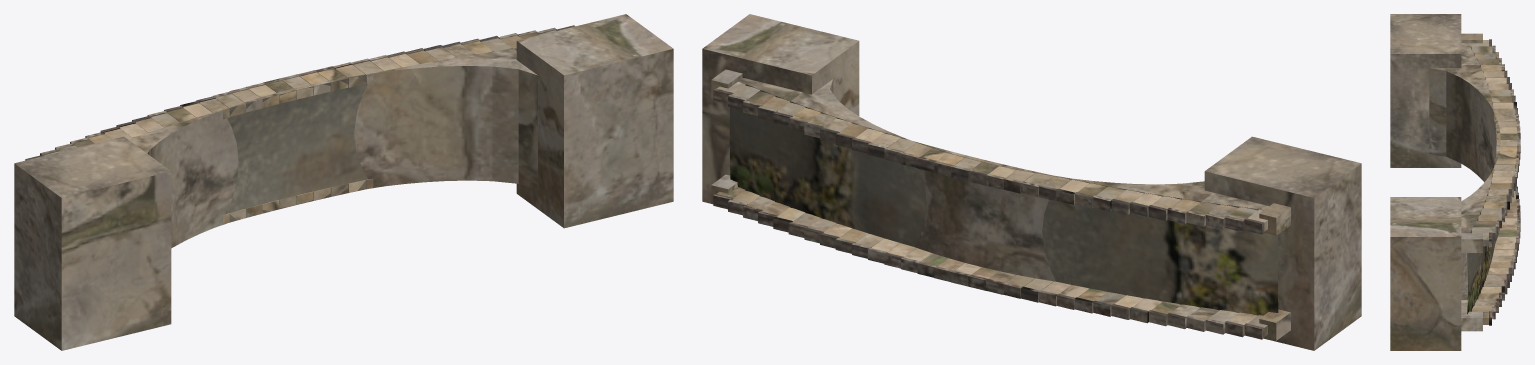
The model's file is Stone_Arch_Bridge.fbx.
The picture shows the model from 3 angles, left to right: view 1: azimuth 30°, elevation 25°; view 2: azimuth 150°, elevation 25°; view 3: azimuth 270°, elevation 25°; orthographic projection. The views are drawn at different scales.
Parts seen in each view (by area): view 1: Stone_Arch_Bridge; view 2: Stone_Arch_Bridge; view 3: Stone_Arch_Bridge.
Boxes of the visible parts, box(x1,y1,x2,y2) form: Stone_Arch_Bridge: box(14, 14, 673, 350); Stone_Arch_Bridge: box(702, 14, 1361, 350); Stone_Arch_Bridge: box(1390, 14, 1520, 350).
Size of the model in its own units: 26.8 by 6.4 by 6.61.
